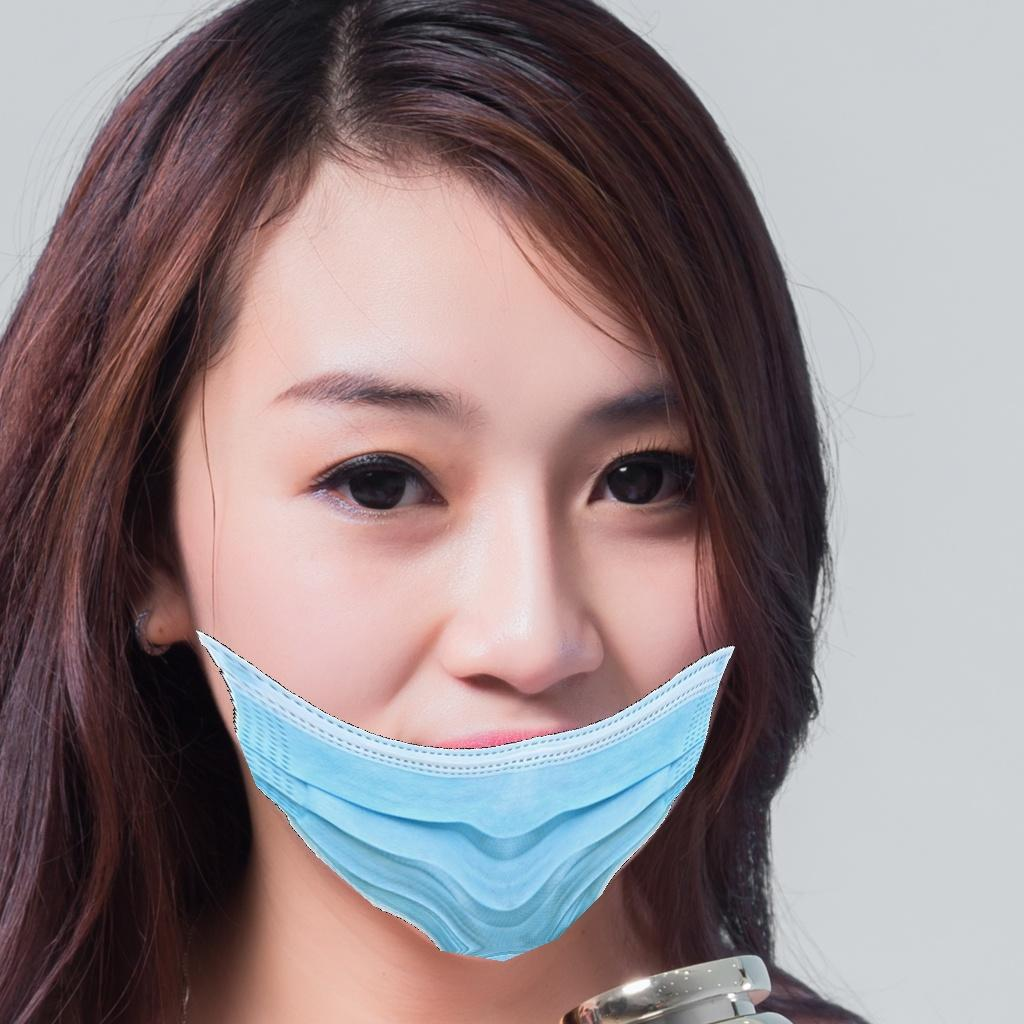Máscara Incorreta: (140, 213, 750, 954)
